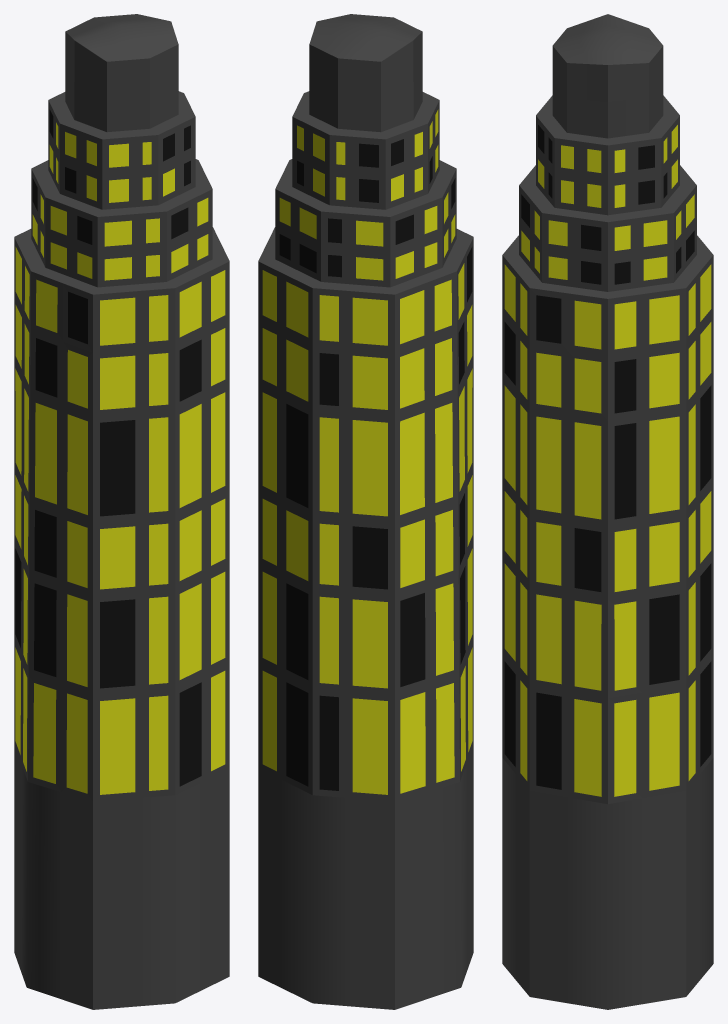
File: Tower_1.FBX
The picture shows the model from 3 angles, left to right: view 1: azimuth 30°, elevation 25°; view 2: azimuth 150°, elevation 25°; view 3: azimuth 270°, elevation 25°; orthographic projection.
Parts seen in each view (by area): view 1: Box001; view 2: Box001; view 3: Box001.
Boxes of the visible parts, x1,y1,x2,y2 form: Box001: [14, 14, 229, 1009]; Box001: [258, 14, 473, 1009]; Box001: [502, 14, 713, 1009].
Bounding box in the file's own units: 27.87 × 131 × 27.
